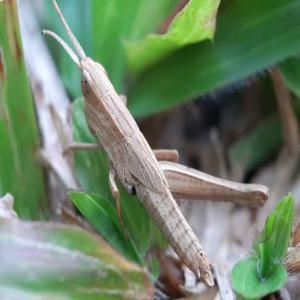locust: (41, 14, 287, 281)
